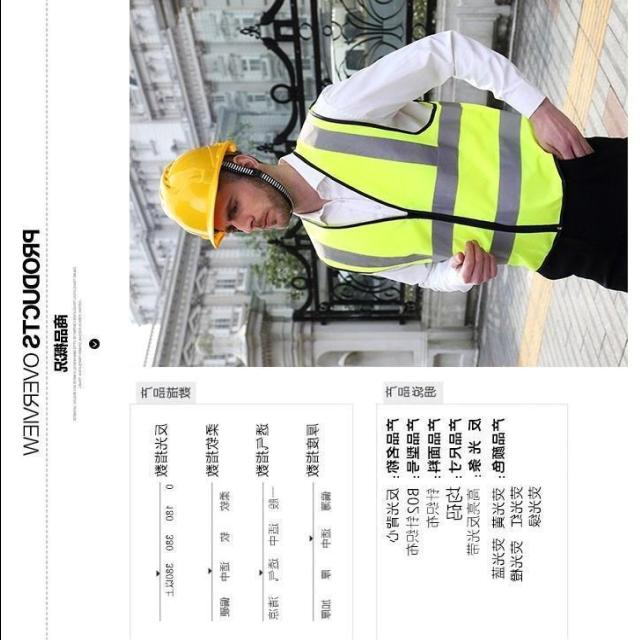helmet: (152, 133, 232, 253)
jacket: (286, 70, 562, 286)
